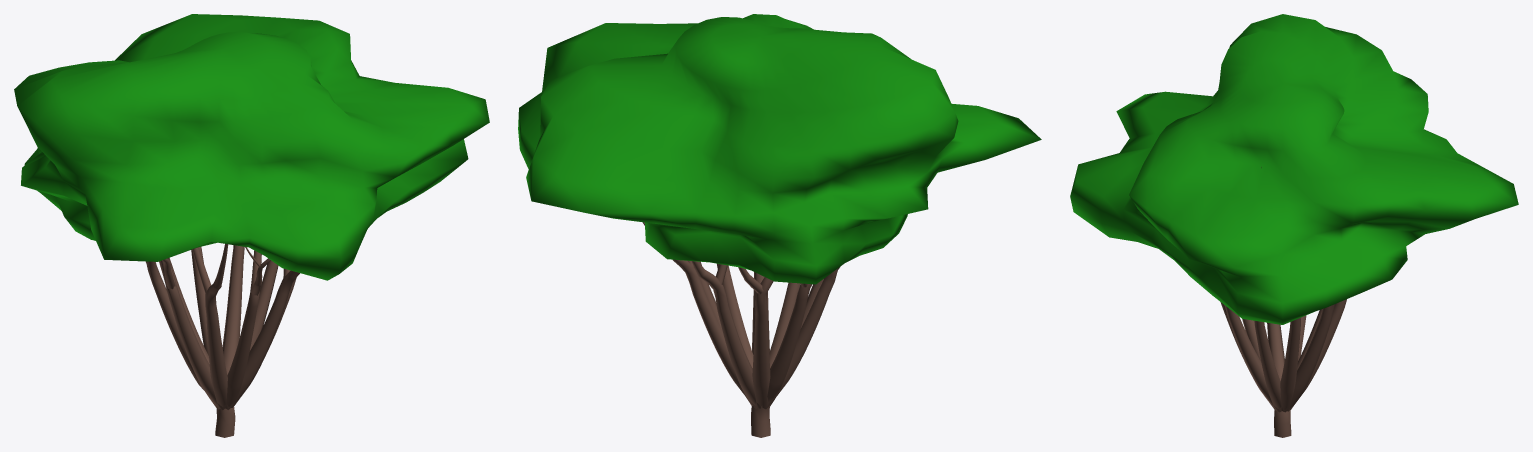
Rendered from Tree.fbx.
The picture shows the model from 3 angles, left to right: view 1: azimuth 30°, elevation 25°; view 2: azimuth 150°, elevation 25°; view 3: azimuth 270°, elevation 25°; orthographic projection. The views are drawn at different scales.
Parts seen in each view (by area): view 1: Sphere.001, tree.001; view 2: Sphere.001, tree.001; view 3: Sphere.001, tree.001.
Boxes of the visible parts, bbox=[...] form: Sphere.001: bbox=[14, 14, 489, 280]; tree.001: bbox=[145, 244, 299, 437]; Sphere.001: bbox=[518, 14, 1041, 284]; tree.001: bbox=[643, 222, 840, 437]; Sphere.001: bbox=[1070, 14, 1518, 324]; tree.001: bbox=[1220, 167, 1346, 437].
Size of the model in its own units: 666 by 577 by 658.
